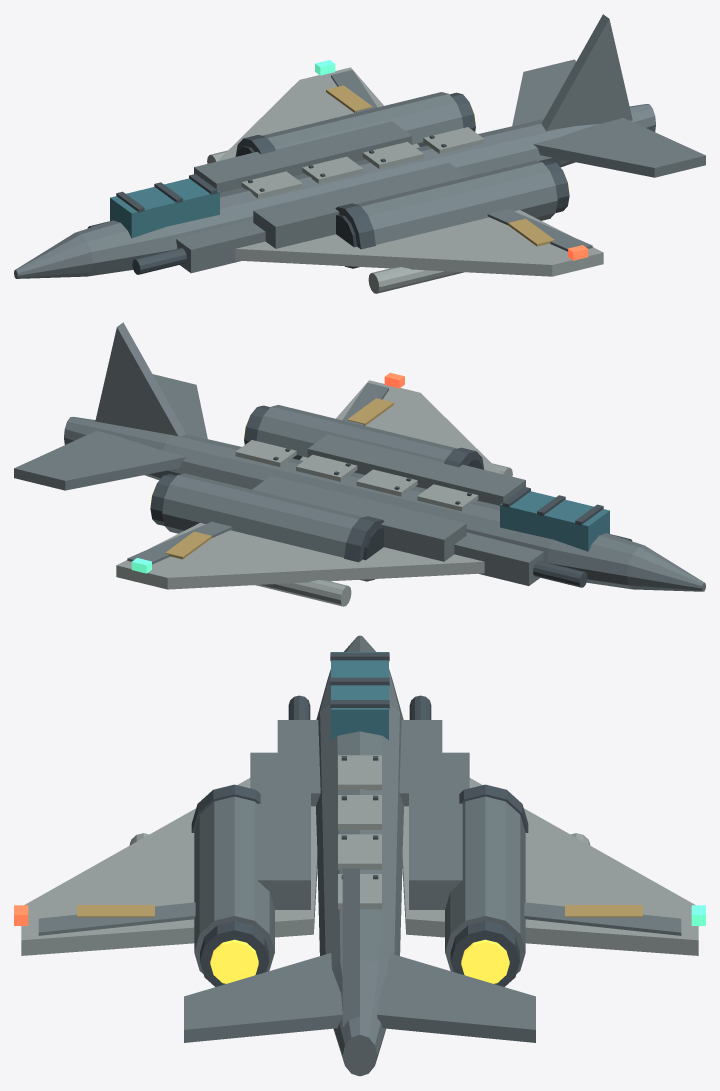
Rendered from rapier_fighter.glb.
3 views of the same model, one above another, from view 1: azimuth 30°, elevation 25°; view 2: azimuth 150°, elevation 25°; view 3: azimuth 270°, elevation 25° (orthographic). The views are drawn at different scales.
Parts seen in each view (by area): view 1: Pressure hull, Port wing, Engine nacelle, Tailplane, Wing root fairing, Vertical stabilizer, Wing root fairing.001, Engine nacelle.001, Canopy, Starboard wing, Cannon fairing, Tailplane.001 (+15 smaller); view 2: Pressure hull, Starboard wing, Engine nacelle.001, Tailplane.001, Wing root fairing.001, Wing root fairing, Vertical stabilizer, Engine nacelle, Canopy, Port wing, Cannon fairing.001, Tailplane (+15 smaller); view 3: Pressure hull, Port wing, Starboard wing, Tailplane, Tailplane.001, Engine nacelle, Engine nacelle.001, Wing root fairing, Wing root fairing.001, Canopy, Vertical stabilizer, Elevon (+15 smaller).
Part boxes in pixels (bbox=[...]): Pressure hull: bbox=[14, 104, 655, 278]; Port wing: bbox=[235, 210, 603, 276]; Engine nacelle: bbox=[356, 160, 557, 244]; Tailplane: bbox=[533, 118, 705, 177]; Wing root fairing: bbox=[253, 163, 467, 248]; Vertical stabilizer: bbox=[541, 14, 632, 131]; Wing root fairing.001: bbox=[194, 121, 412, 192]; Engine nacelle.001: bbox=[263, 92, 463, 149]; Canopy: bbox=[110, 178, 219, 238]; Starboard wing: bbox=[217, 67, 419, 161]; Cannon fairing: bbox=[176, 219, 265, 273]; Tailplane.001: bbox=[512, 59, 576, 126]; Pressure hull: bbox=[64, 416, 705, 591]; Starboard wing: bbox=[116, 523, 484, 589]; Engine nacelle.001: bbox=[162, 473, 363, 557]; Tailplane.001: bbox=[14, 430, 186, 490]; Wing root fairing.001: bbox=[252, 475, 466, 561]; Wing root fairing: bbox=[307, 434, 525, 505]; Vertical stabilizer: bbox=[95, 322, 186, 436]; Engine nacelle: bbox=[256, 405, 456, 462]; Canopy: bbox=[500, 491, 609, 551]; Port wing: bbox=[300, 380, 502, 474]; Cannon fairing.001: bbox=[454, 532, 543, 585]; Tailplane: bbox=[152, 374, 207, 438]; Pressure hull: bbox=[316, 635, 403, 1076]; Port wing: bbox=[21, 778, 317, 955]; Starboard wing: bbox=[402, 778, 698, 955]; Tailplane: bbox=[184, 953, 342, 1042]; Tailplane.001: bbox=[377, 953, 535, 1042]; Engine nacelle: bbox=[194, 796, 274, 973]; Engine nacelle.001: bbox=[445, 796, 525, 973]; Wing root fairing: bbox=[250, 752, 310, 909]; Wing root fairing.001: bbox=[409, 752, 469, 909]; Canopy: bbox=[331, 652, 388, 740]; Vertical stabilizer: bbox=[342, 868, 359, 1026]; Elevon: bbox=[38, 902, 195, 935].
Size of the model in its own units: 6.8 by 1.48 by 4.8.
